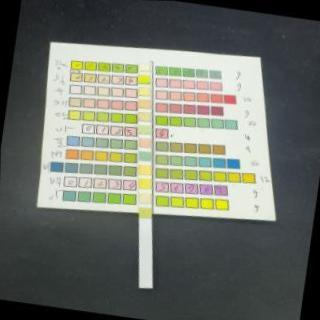mark: (138, 166, 152, 176), (138, 138, 152, 148), (139, 152, 152, 162), (140, 194, 152, 204), (139, 179, 151, 189), (140, 126, 152, 136), (139, 112, 151, 122), (140, 208, 151, 218), (139, 100, 151, 109), (140, 75, 151, 84), (139, 63, 150, 72), (139, 88, 151, 96)
